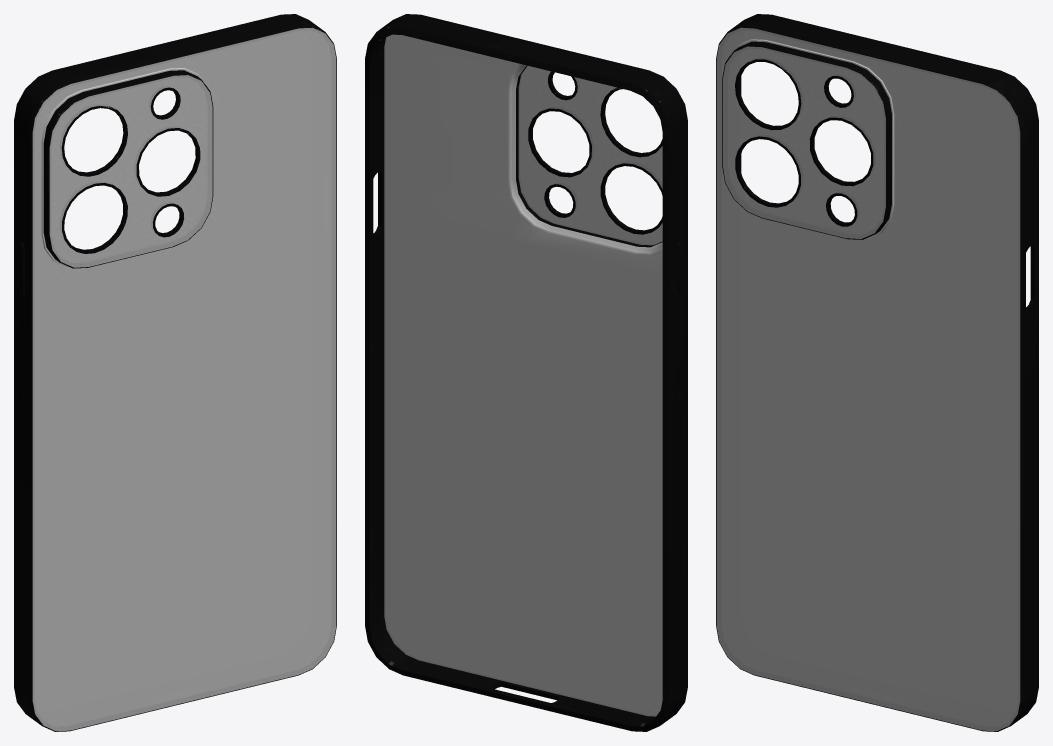
Rendered from phone_case.glb.
3 views of the same model, side by side, from view 1: azimuth 30°, elevation 25°; view 2: azimuth 150°, elevation 25°; view 3: azimuth 330°, elevation 25° (orthographic).
Visible parts, largest first — view 1: Plane, Plane_1; view 2: Plane, Plane_1; view 3: Plane, Plane_1.
Boxes of the visible parts, x1,y1,x2,y2 form: Plane: (32,27,336,731); Plane_1: (14,14,336,731); Plane: (384,34,662,716); Plane_1: (365,14,687,731); Plane: (716,27,1020,731); Plane_1: (716,14,1038,731).
Bounding box in the file's own units: 0.0842 × 0.1694 × 0.0117.
Materials: 2 (2 with a texture image).
